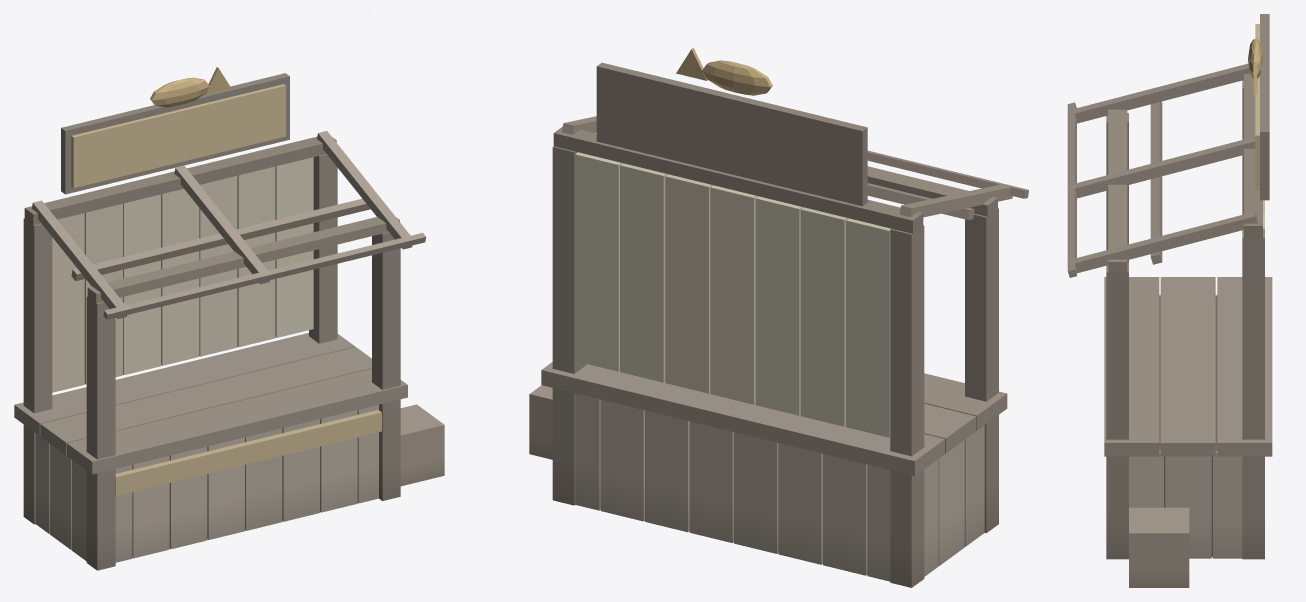
The model's file is FishBuyerStand_wood.glb.
The picture shows the model from 3 angles, left to right: view 1: azimuth 30°, elevation 25°; view 2: azimuth 150°, elevation 25°; view 3: azimuth 270°, elevation 25°; orthographic projection. The views are drawn at different scales.
Parts seen in each view (by area): view 1: FishBuyerStand_wood; view 2: FishBuyerStand_wood; view 3: FishBuyerStand_wood.
Boxes of the visible parts, bbox=[...] form: FishBuyerStand_wood: bbox=[14, 67, 444, 570]; FishBuyerStand_wood: bbox=[529, 48, 1032, 587]; FishBuyerStand_wood: bbox=[1067, 14, 1272, 587].
Size of the model in its own units: 12.05 by 12.8 by 6.11.
